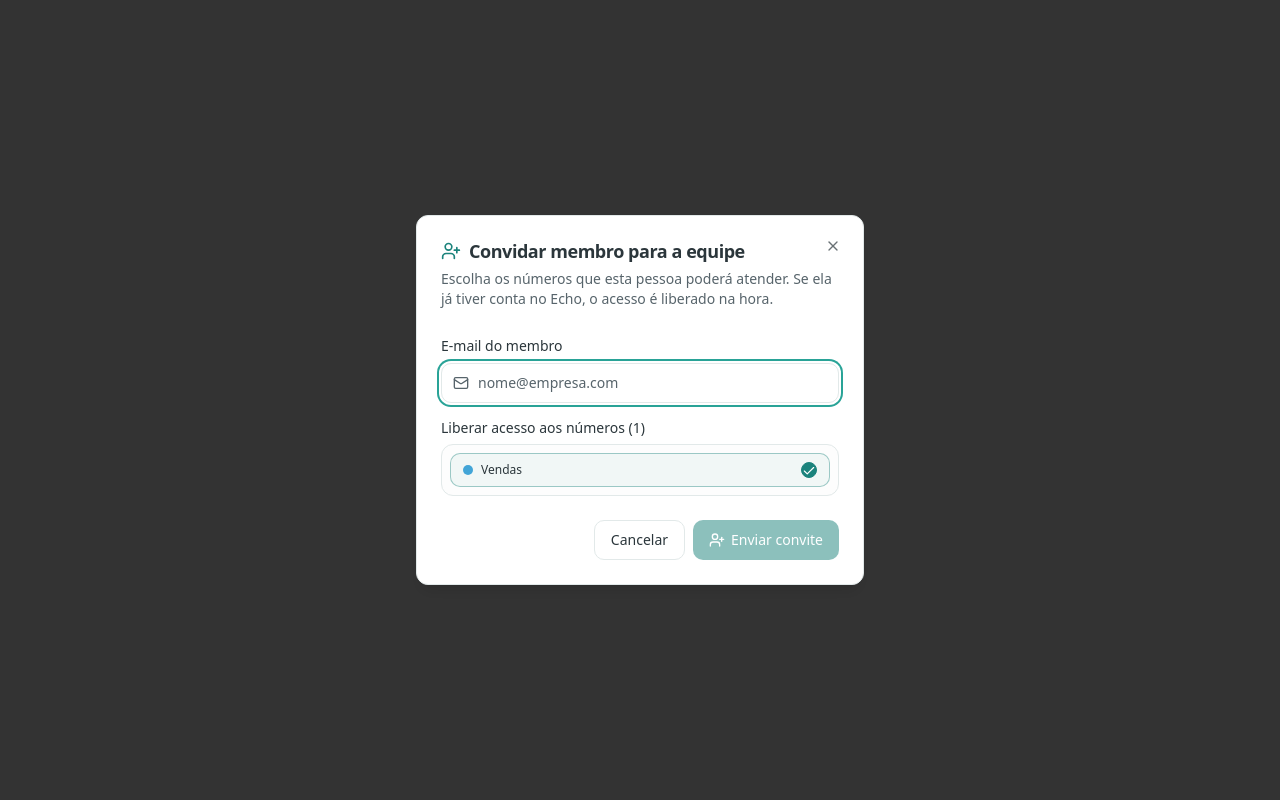
it: InviteMemberDialog: link do convite › navegador que recusa a cópia deixa o link selecionado e avisa
The width and height of the screenshot is (1280, 800).
In the field labelled "E-mail do membro": point(640, 382) [441,362,839,402], type "agente@example.com"
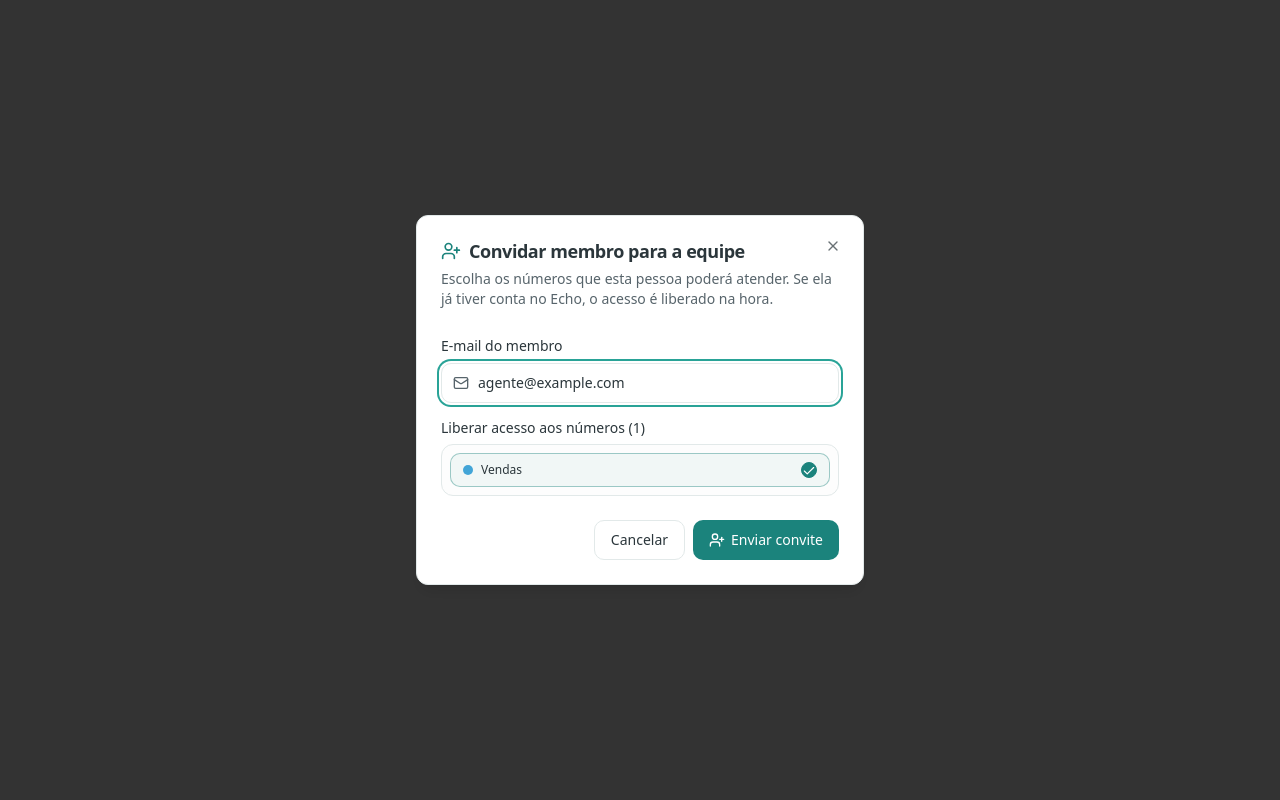
Click the button "Enviar convite": point(766, 540) [693,520,839,560]
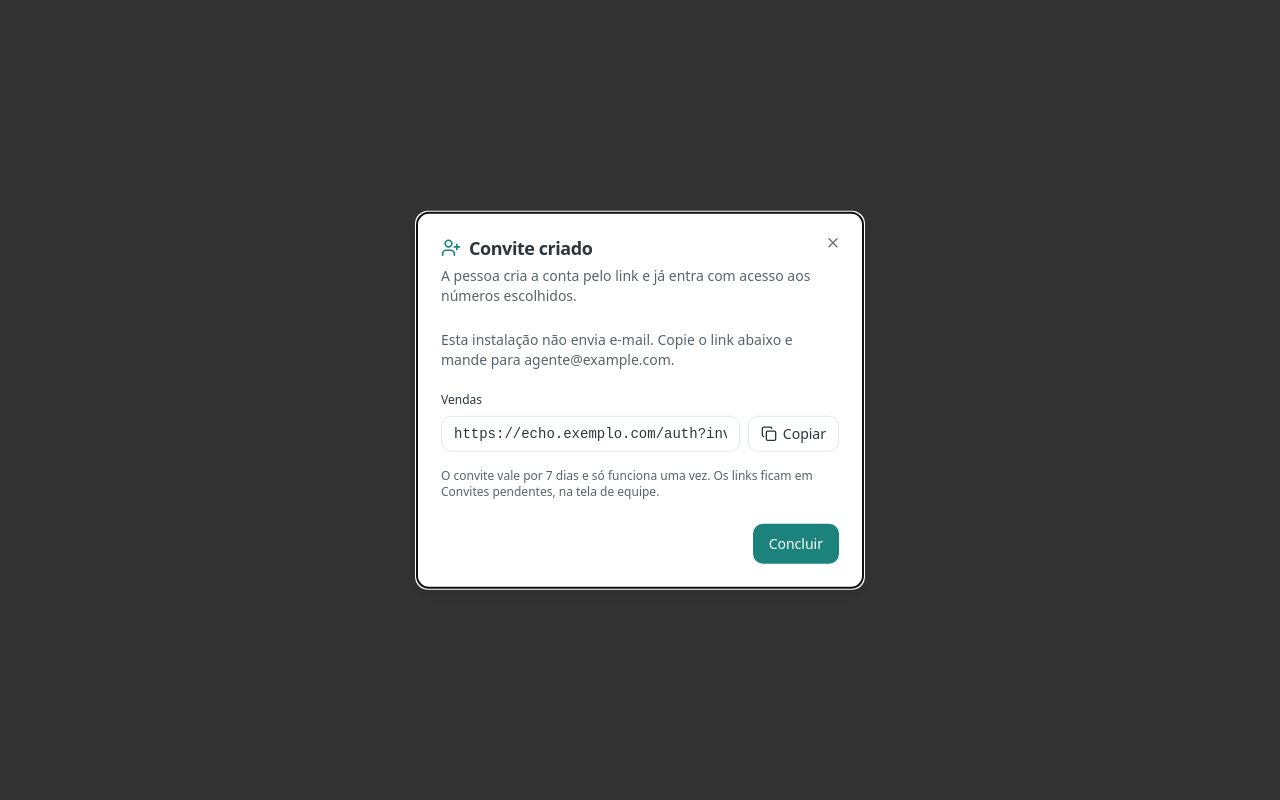
Click the button with aria-label "Copiar link de Vendas": point(793, 433) [748,415,839,451]
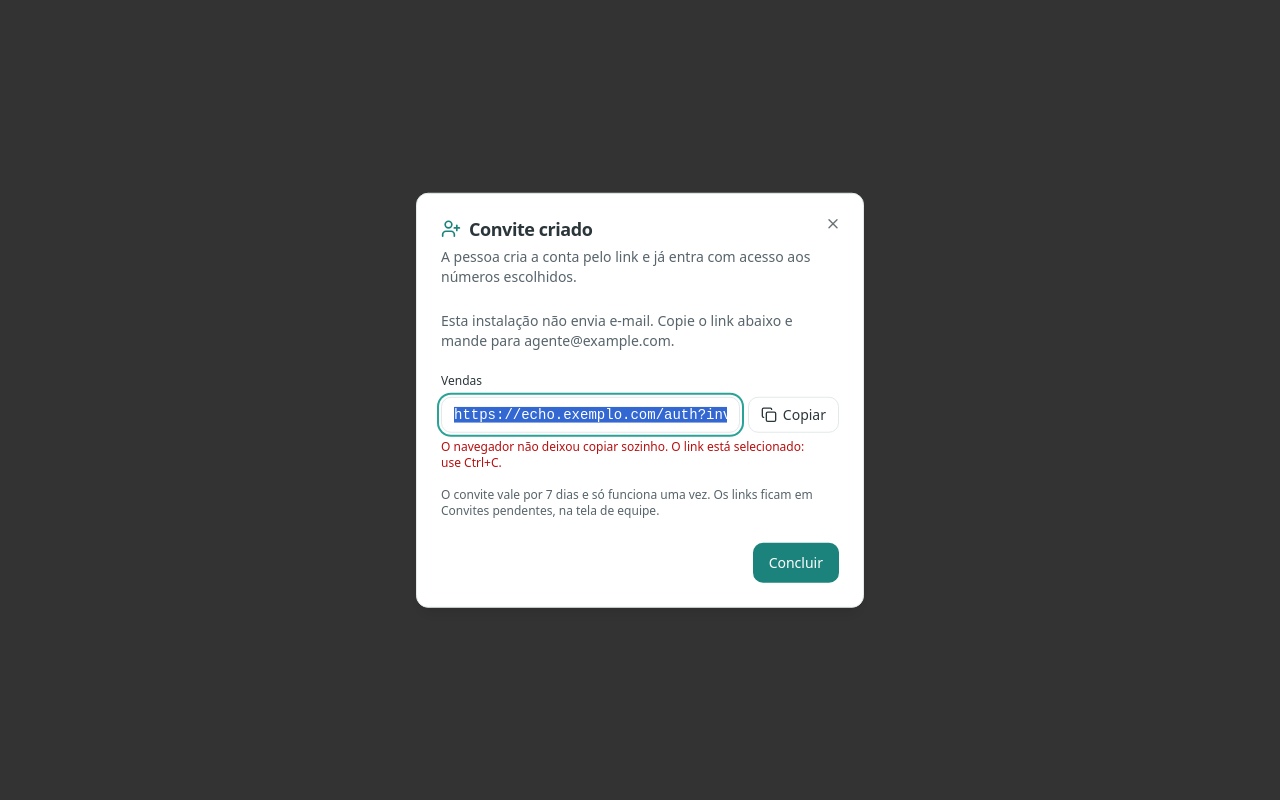
Now the text "O navegador não deixou copiar sozinho. O link está selecionado: use Ctrl+C." is shown, box [441,438,839,470]
